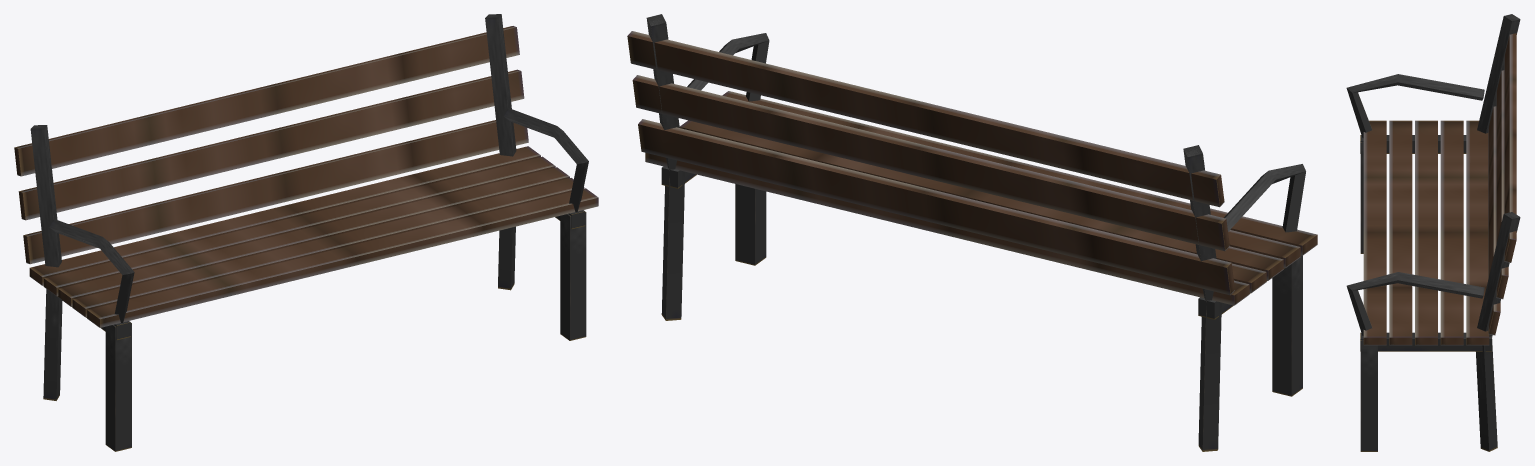
Rendered from bench_park.obj.
3 views of the same model, side by side, from view 1: azimuth 30°, elevation 25°; view 2: azimuth 150°, elevation 25°; view 3: azimuth 270°, elevation 25° (orthographic). The views are drawn at different scales.
Visible parts, largest first — view 1: bench_park; view 2: bench_park; view 3: bench_park.
Boxes of the visible parts, left/top/right/bottom form: bench_park: left=14, top=14, right=598, bottom=451; bench_park: left=627, top=14, right=1317, bottom=451; bench_park: left=1346, top=14, right=1520, bottom=451.
Bounding box in the file's own units: 1.8 × 0.9076 × 0.6095.
Materials: 1 (1 with a texture image).
